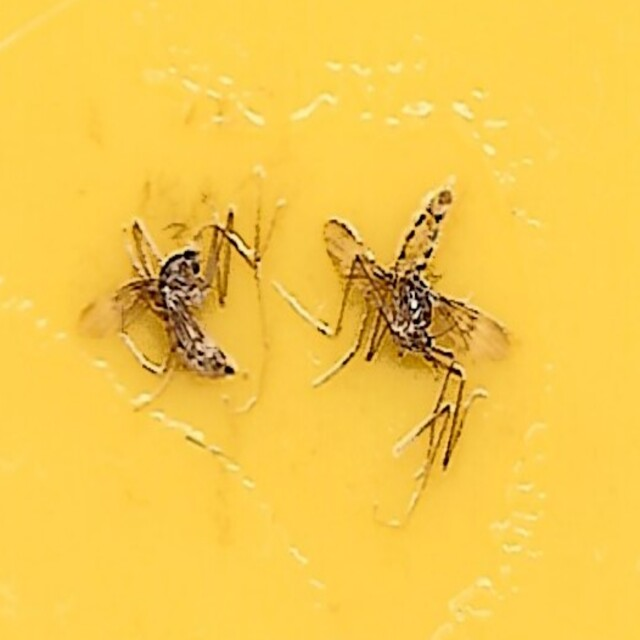Nematocera: (314, 174, 518, 466), (122, 209, 253, 398)
